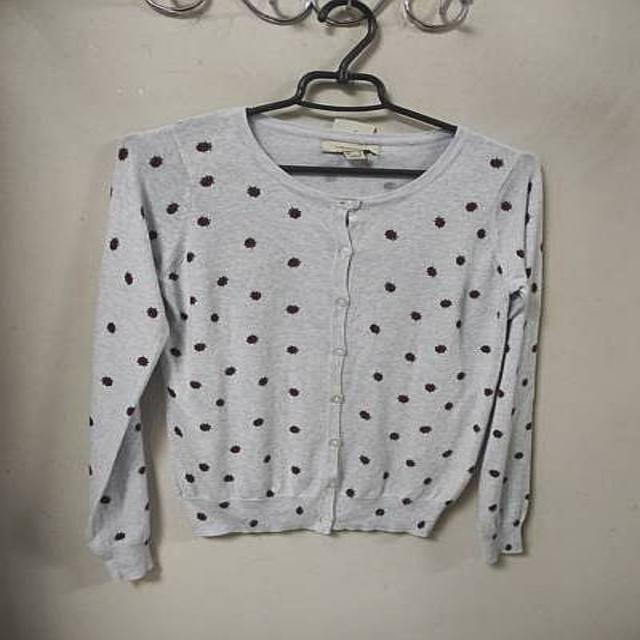SHIRT: (71, 96, 559, 592)
